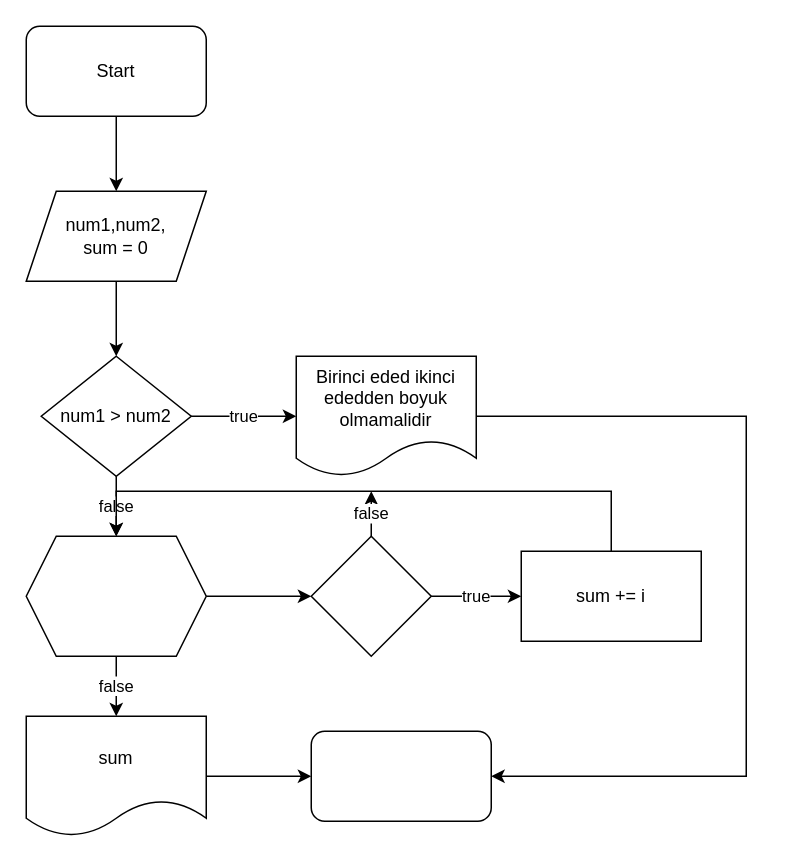
Some shapes in this 785 by 863 pixel diagram are drawn without their labels. The centre of each missing label's shape, as x and y in pixels:
End: pixel 400 775
i%2!=0: pixel 370 595
i=num1+1;i<num2; i++: pixel 115 595
